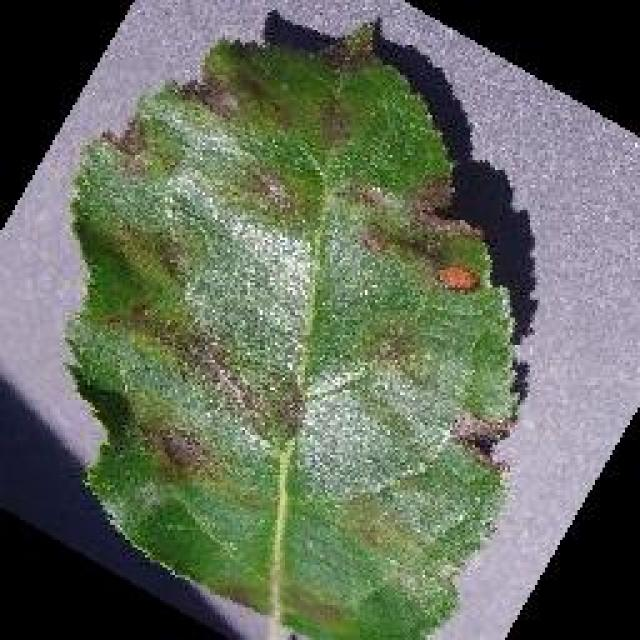apple scab disease: (60, 12, 525, 638)
